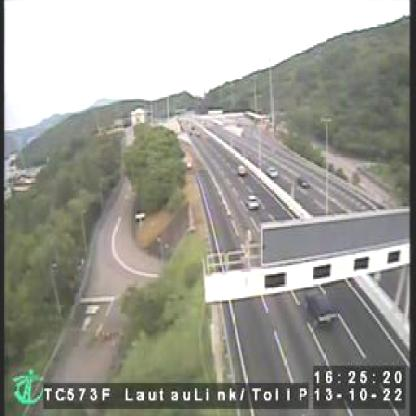Car: (305, 291, 337, 332), (245, 195, 259, 211), (266, 164, 279, 178), (238, 165, 247, 179)
